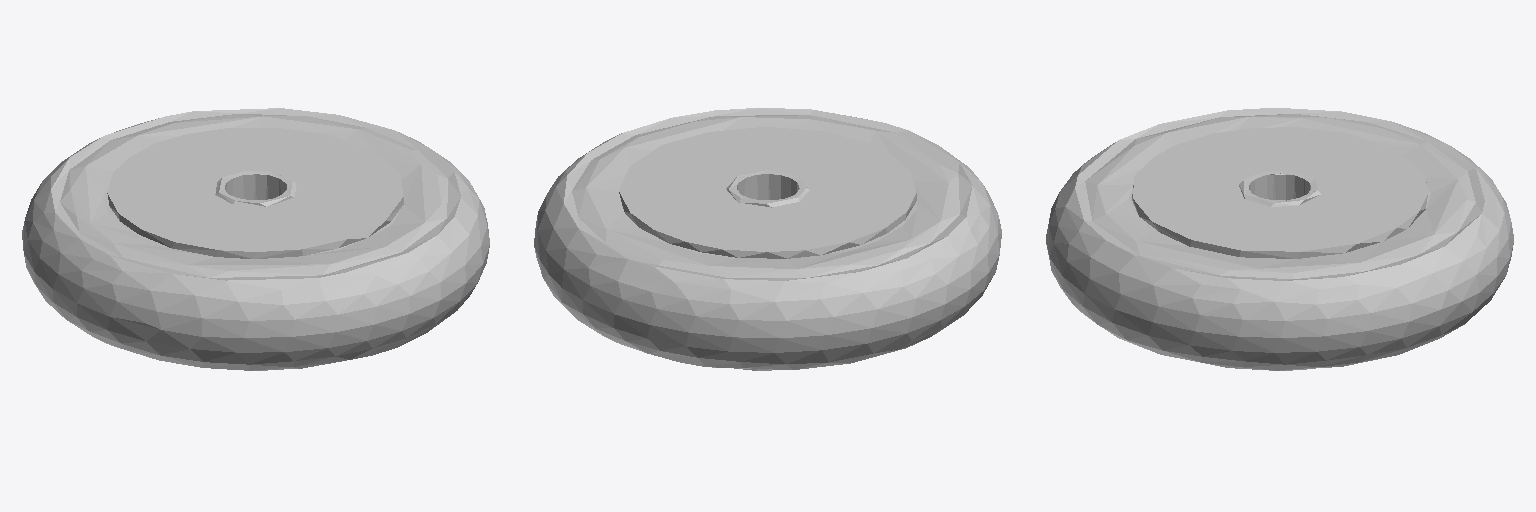
Rendered from wheel.obj.
The picture shows the model from 3 angles: view 1: azimuth 30°, elevation 25°; view 2: azimuth 150°, elevation 25°; view 3: azimuth 270°, elevation 25°; orthographic projection.
Visible parts, largest first — view 1: wheel_M_mod_wheel_M_modShape; view 2: wheel_M_mod_wheel_M_modShape; view 3: wheel_M_mod_wheel_M_modShape.
Part boxes in pixels (left/top/right/bottom): wheel_M_mod_wheel_M_modShape: left=22, top=108, right=489, bottom=370; wheel_M_mod_wheel_M_modShape: left=534, top=108, right=1001, bottom=370; wheel_M_mod_wheel_M_modShape: left=1046, top=108, right=1513, bottom=370.
Bounding box in the file's own units: 0.1588 × 0.0517 × 0.1588.